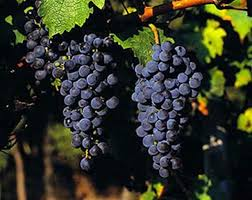Black grapes: (130, 38, 198, 183), (61, 36, 126, 173)
